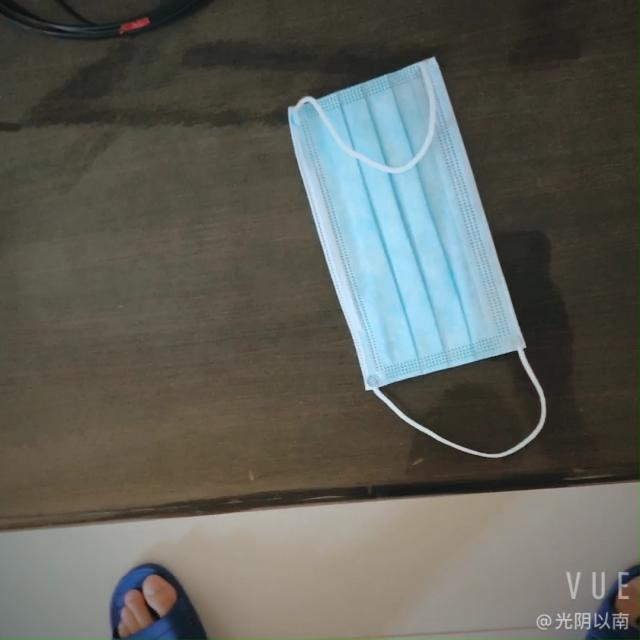non-organic waste: (297, 39, 547, 413)
